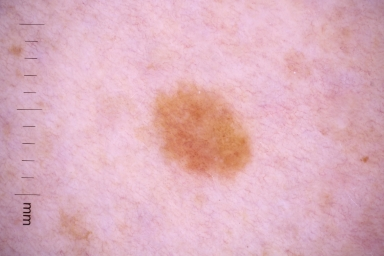nevus: (155, 88, 256, 180)
